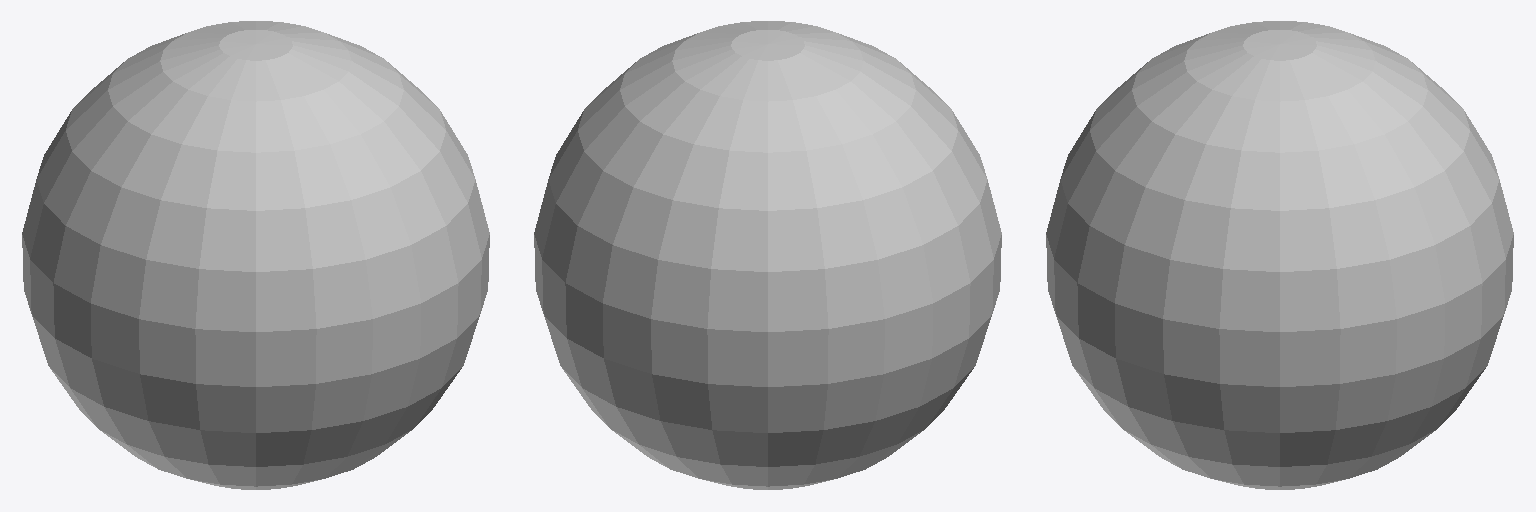
File: ball-green.obj
3 renders of one model, left to right at view 1: azimuth 30°, elevation 25°; view 2: azimuth 150°, elevation 25°; view 3: azimuth 270°, elevation 25°, orthographic.
Visible parts, largest first — view 1: ball-green; view 2: ball-green; view 3: ball-green.
Part boxes in pixels (x1,y1,x2,y2): ball-green: (22, 21, 489, 489); ball-green: (534, 21, 1001, 489); ball-green: (1046, 21, 1513, 489).
Bounding box in the file's own units: 0.0699 × 0.0698 × 0.0699.